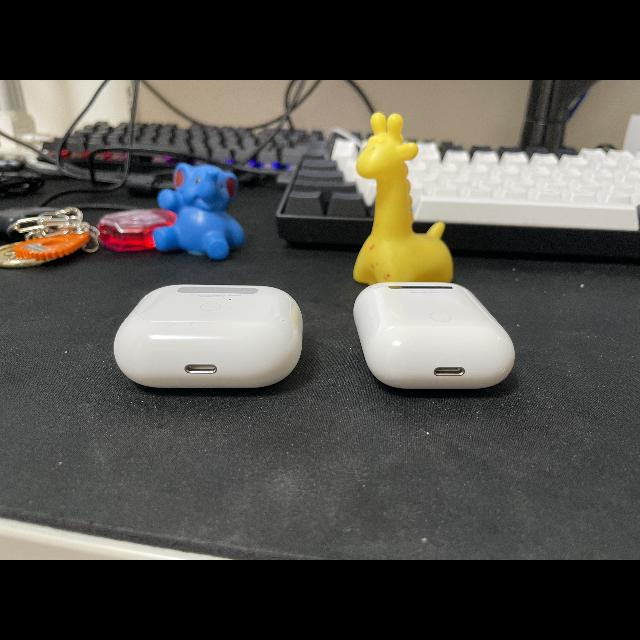airpod2: (348, 275, 522, 393)
airpod3: (112, 276, 304, 392)
